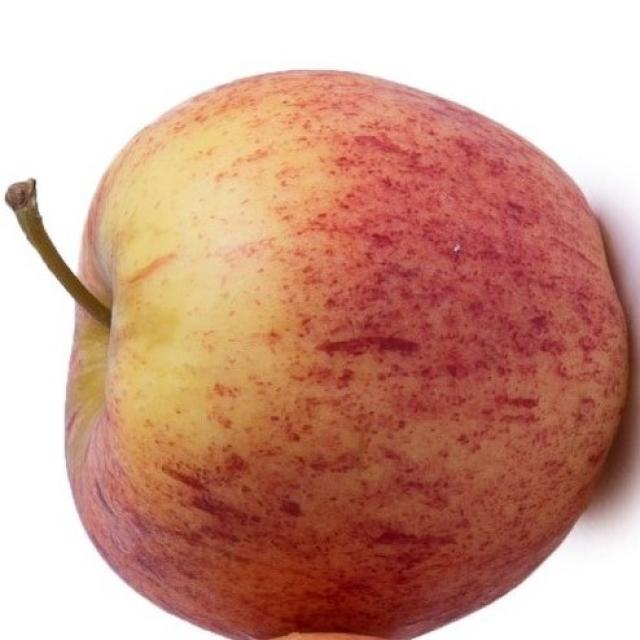75-_ripeness: (65, 65, 627, 640)
